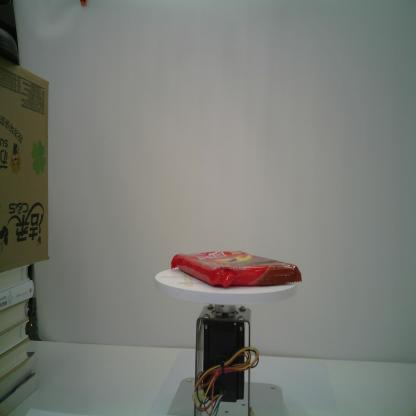Dessert: (170, 248, 303, 288)
